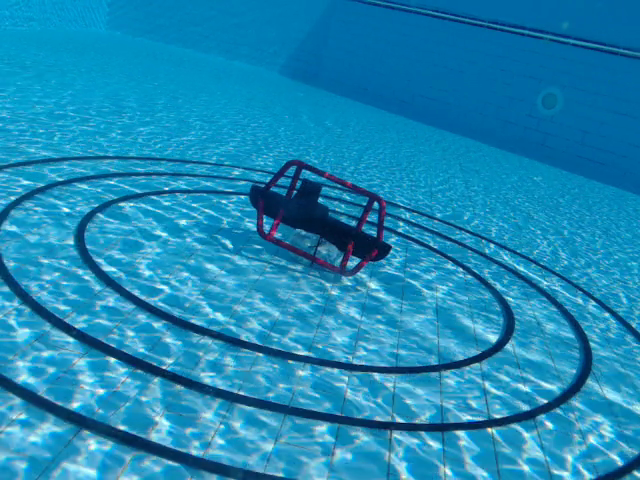submarine: (247, 159, 393, 279)
